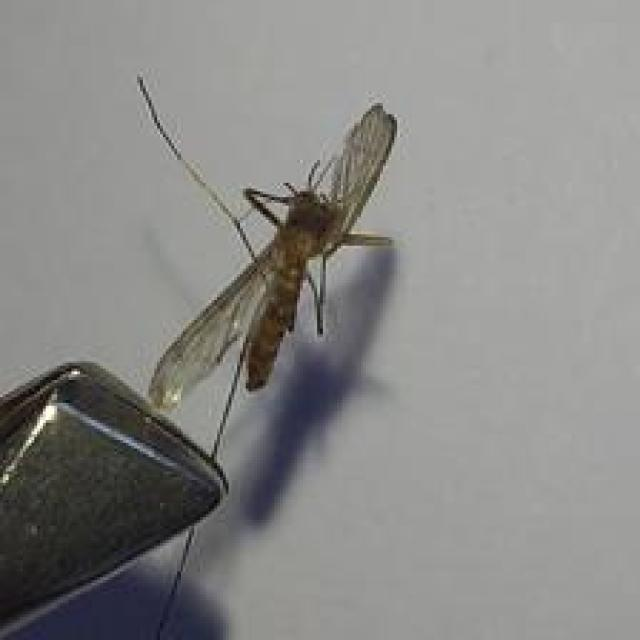Culex: (134, 72, 400, 474)
